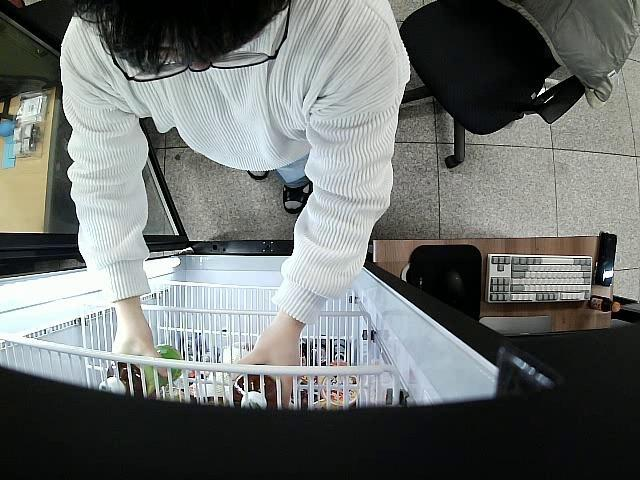19_17cha: (100, 344, 180, 398), (230, 374, 277, 410)
